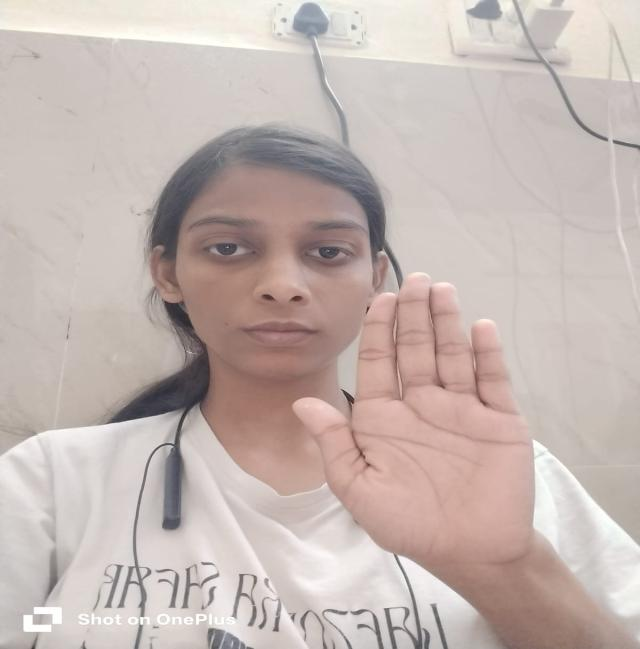Hello: (277, 260, 594, 599)
Yes: (274, 262, 594, 599)
